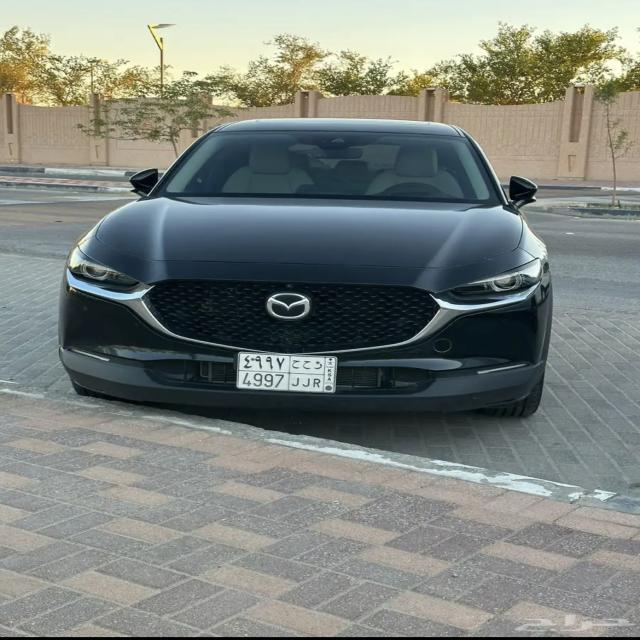license_plate: (234, 351, 339, 394)
